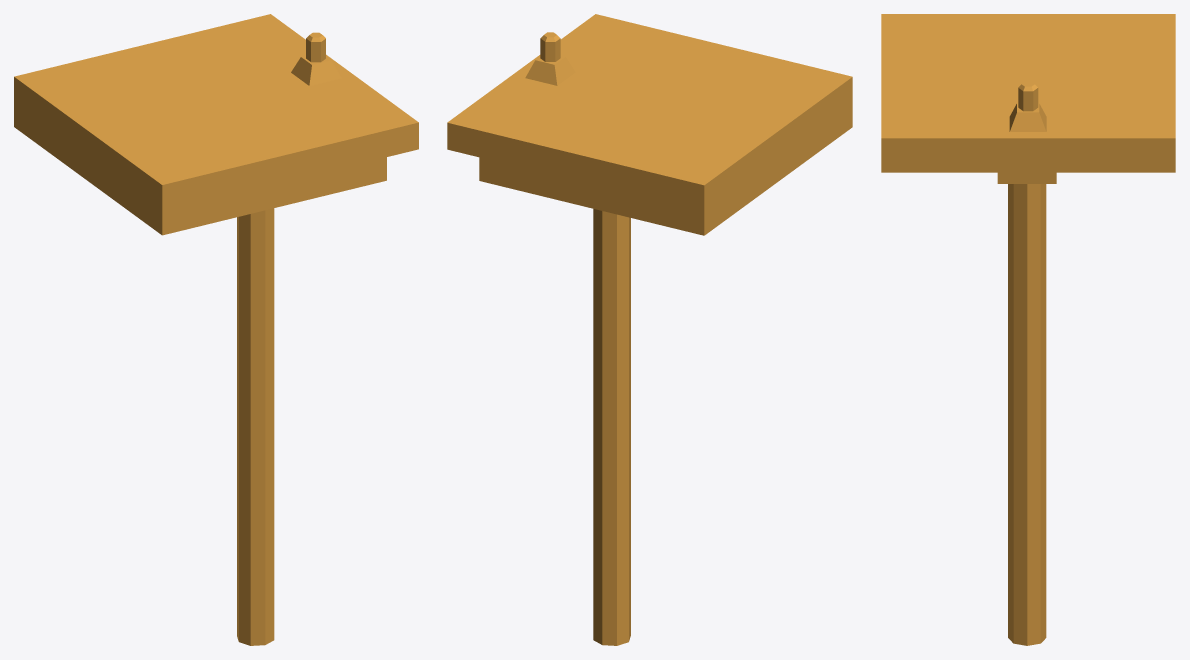
Rendered from buildings-pier-concrete-side-2.glb.
3 renders of one model, left to right at view 1: azimuth 30°, elevation 25°; view 2: azimuth 150°, elevation 25°; view 3: azimuth 270°, elevation 25°, orthographic.
Parts seen in each view (by area): view 1: pier-concrete-side; view 2: pier-concrete-side; view 3: pier-concrete-side.
Boxes of the visible parts, x1=… form: pier-concrete-side: x1=14, y1=14, x2=418, y2=645; pier-concrete-side: x1=447, y1=14, x2=852, y2=645; pier-concrete-side: x1=881, y1=14, x2=1175, y2=645.
Bounding box in the file's own units: 4 × 8.75 × 4.
